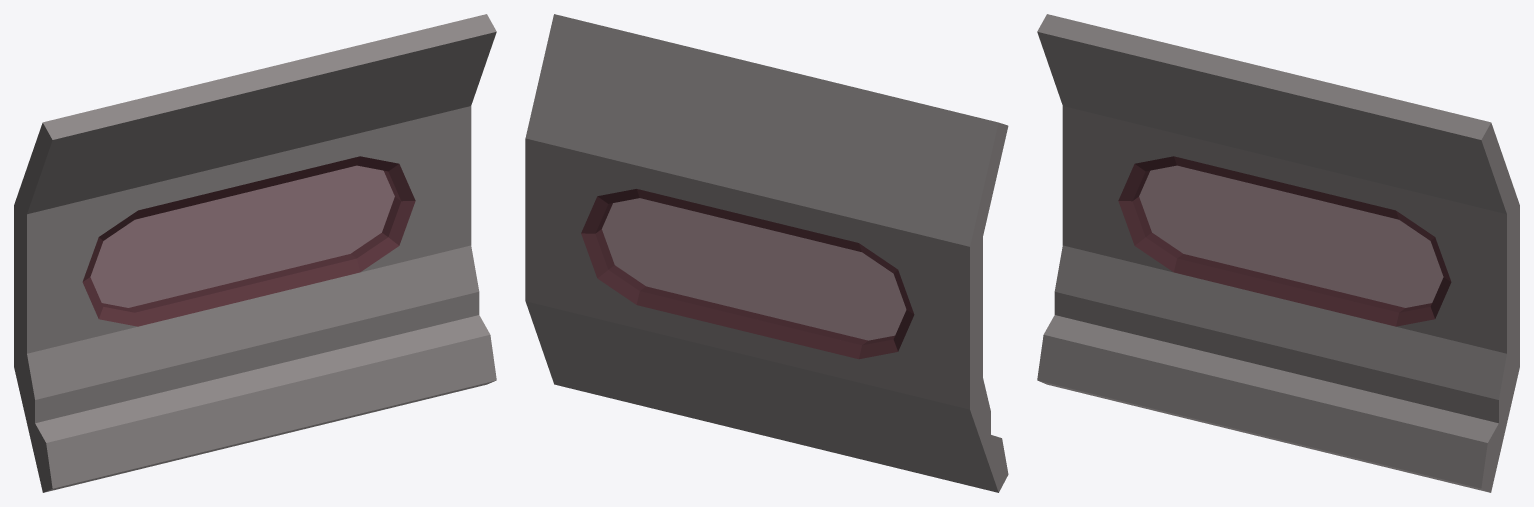
Rendered from scifi-window-corridor.fbx.
3 renders of one model, left to right at view 1: azimuth 30°, elevation 25°; view 2: azimuth 150°, elevation 25°; view 3: azimuth 330°, elevation 25°, orthographic.
Parts seen in each view (by area): view 1: scifi-window-corridor; view 2: scifi-window-corridor; view 3: scifi-window-corridor.
Part boxes in pixels (<box>): scifi-window-corridor: <box>14,14,496,492</box>; scifi-window-corridor: <box>525,14,1008,492</box>; scifi-window-corridor: <box>1037,14,1519,492</box>.
Size of the model in its own units: 4 by 3.19 by 0.6.
